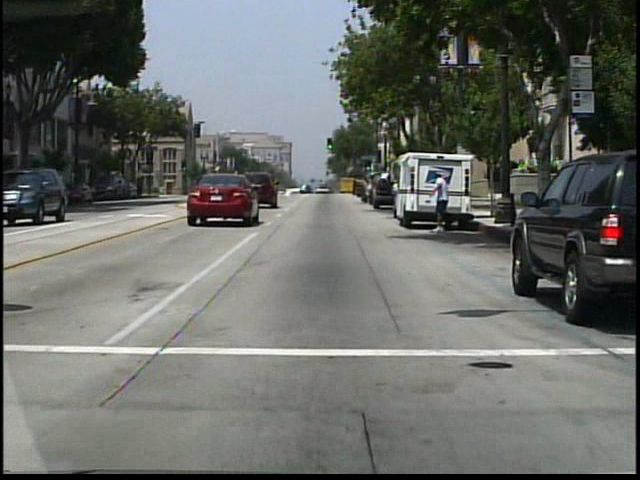person: (427, 171, 459, 235), (355, 173, 378, 210)
